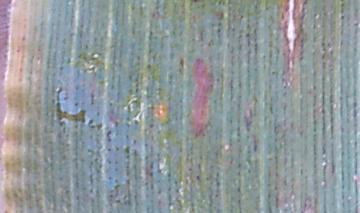tarspot: (243, 106, 253, 135), (251, 135, 258, 153), (177, 54, 185, 67), (104, 129, 112, 142)
